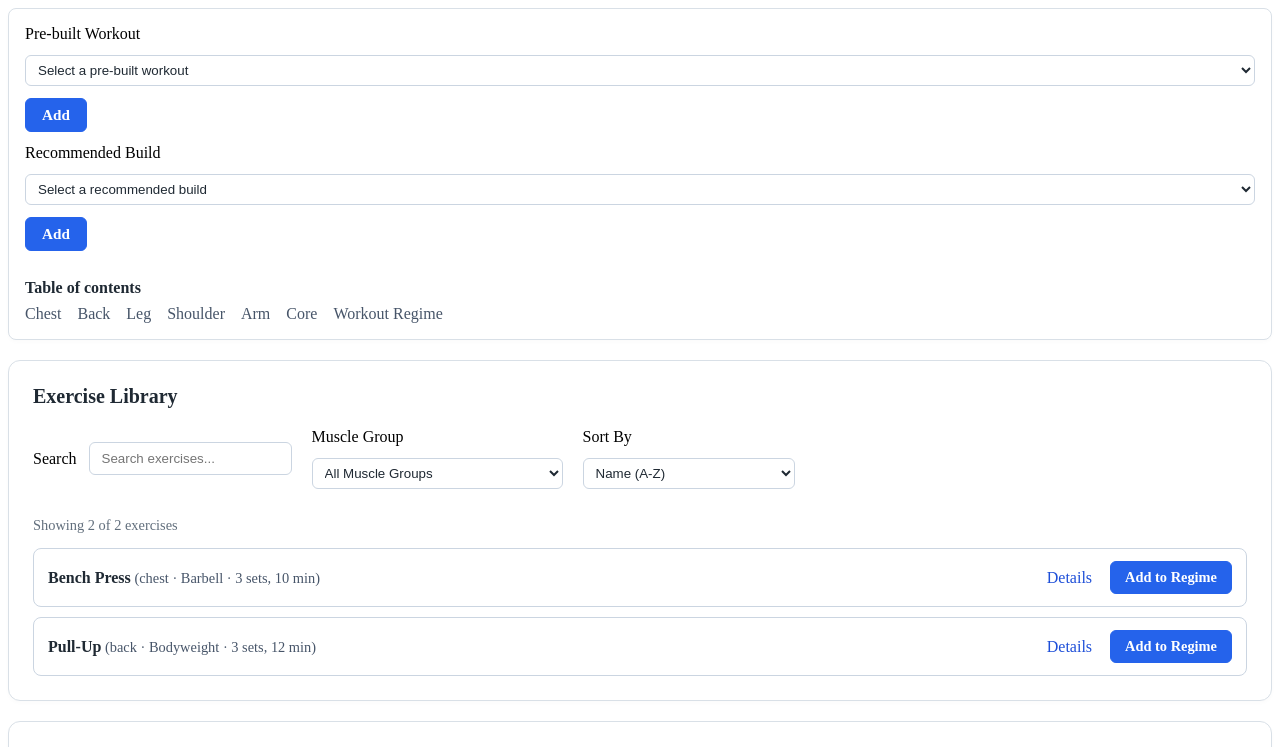
it: Workout Planner › filters catalog exercises by muscle group
The width and height of the screenshot is (1280, 747).
Expected: the text "Bench Press" is shown, [48,569,131,586]
Expected: the text "Pull-Up" is shown, [48,638,101,655]
Select "Back" in the dropdown labelled "Muscle Group" at (437, 474), box [312,458,562,489]
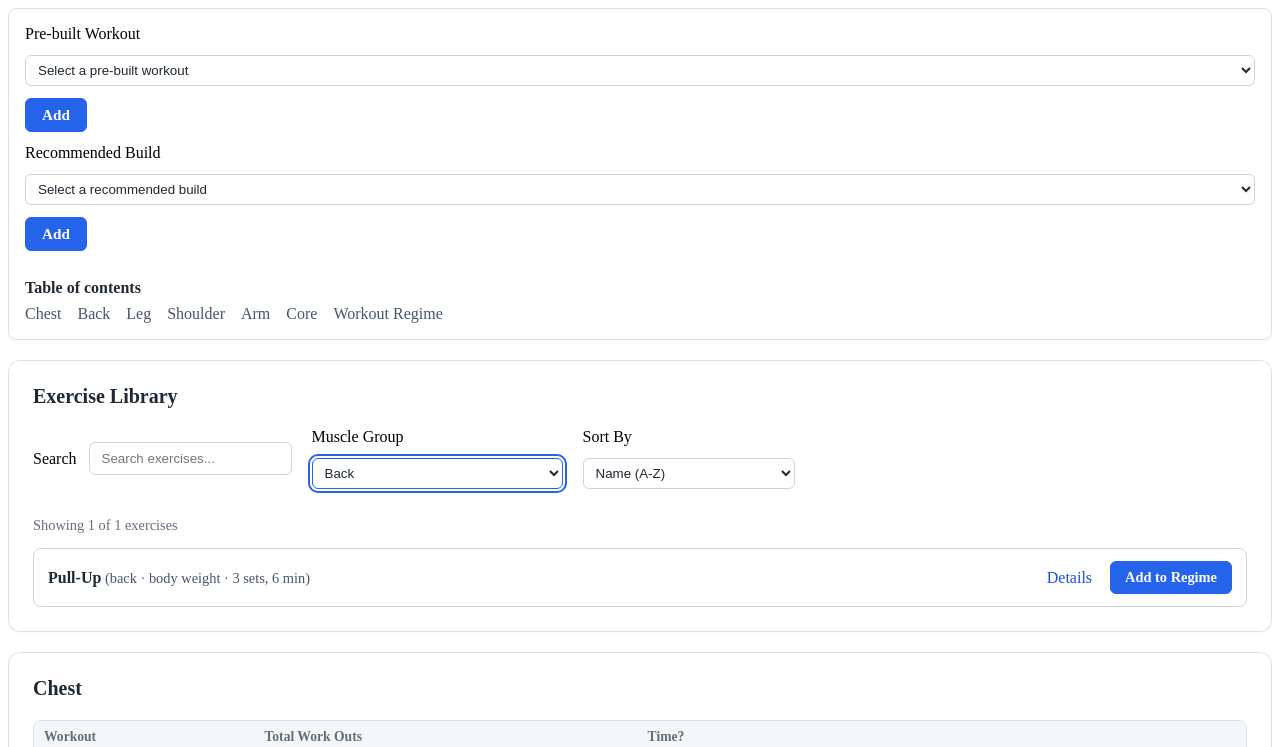
Expected: the text "Pull-Up" is shown, [48,569,101,586]
Expected: the text "Bench Press" is gone
